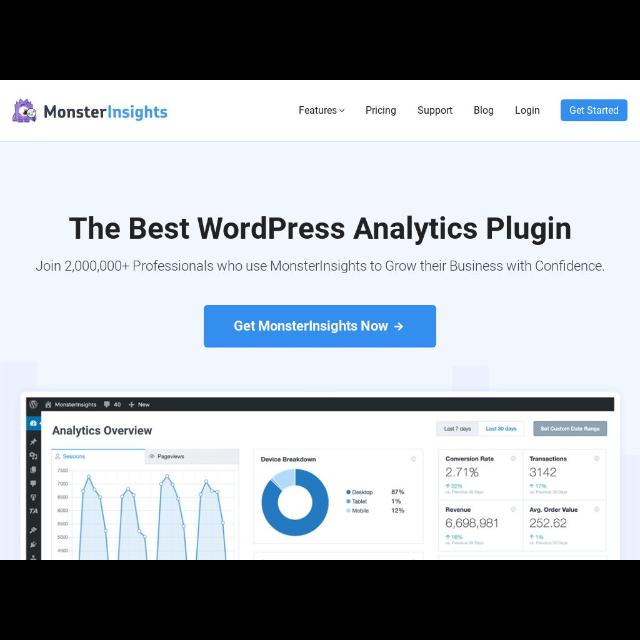icon: (394, 321, 402, 331), (340, 108, 344, 114)
image: (28, 396, 614, 560), (12, 98, 38, 126)
spinner: (300, 104, 346, 120)
text: (70, 216, 574, 246), (37, 260, 606, 274), (44, 105, 170, 123), (234, 319, 388, 333), (569, 105, 619, 116), (298, 105, 336, 117), (418, 105, 454, 117), (367, 105, 398, 116), (515, 106, 541, 116), (474, 105, 494, 116)
textbutton: (204, 306, 436, 348), (561, 100, 627, 120)
toolbar: (1, 81, 639, 141)
